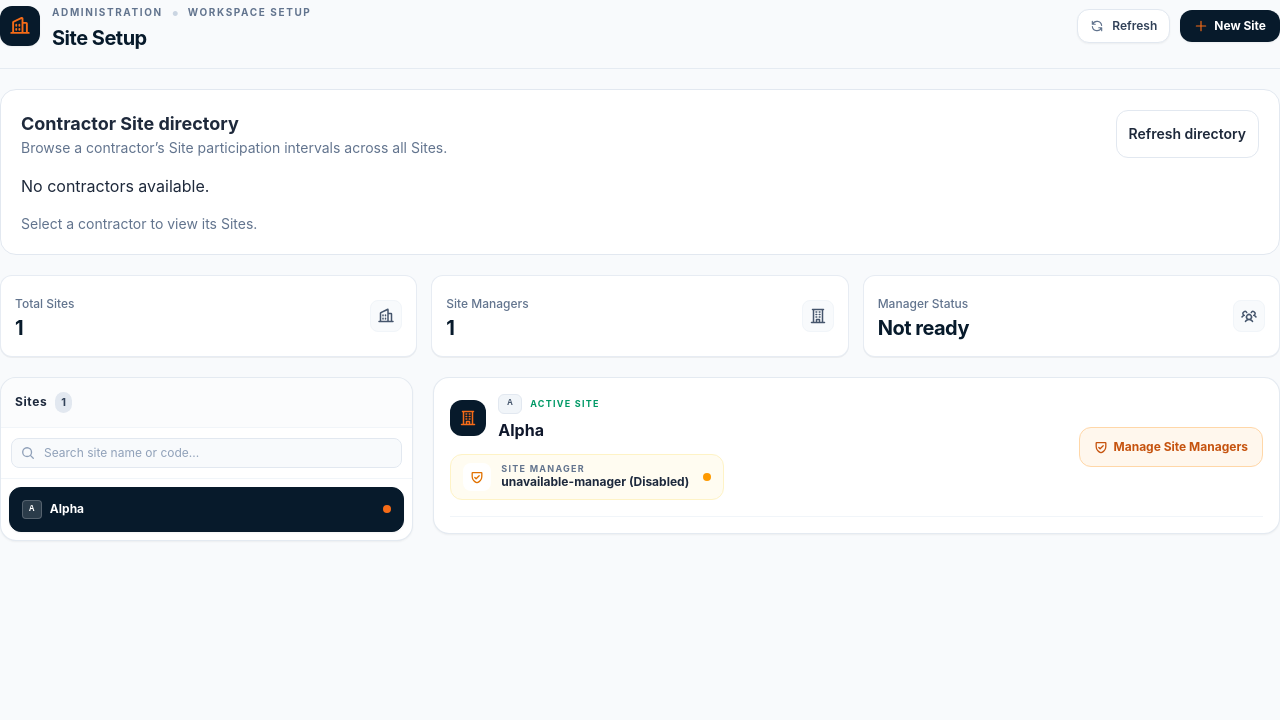
it: keeps manager setup available when an assigned account is unavailable (false, false)
The width and height of the screenshot is (1280, 720).
Click the button "Manage Site Managers". click: coordinates (1171, 447)
box: [1078,427,1263,467]
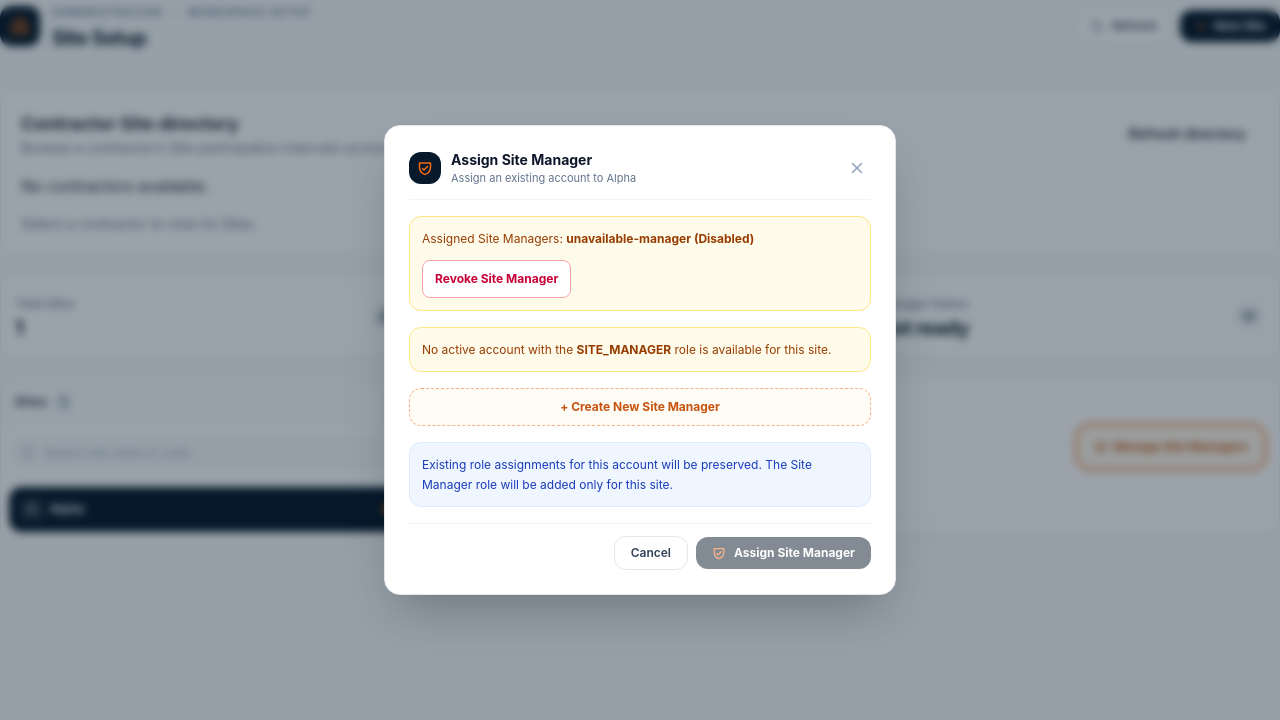
expect the button "+ Create New Site Manager" is disabled: met, box [409,388,871,426]
